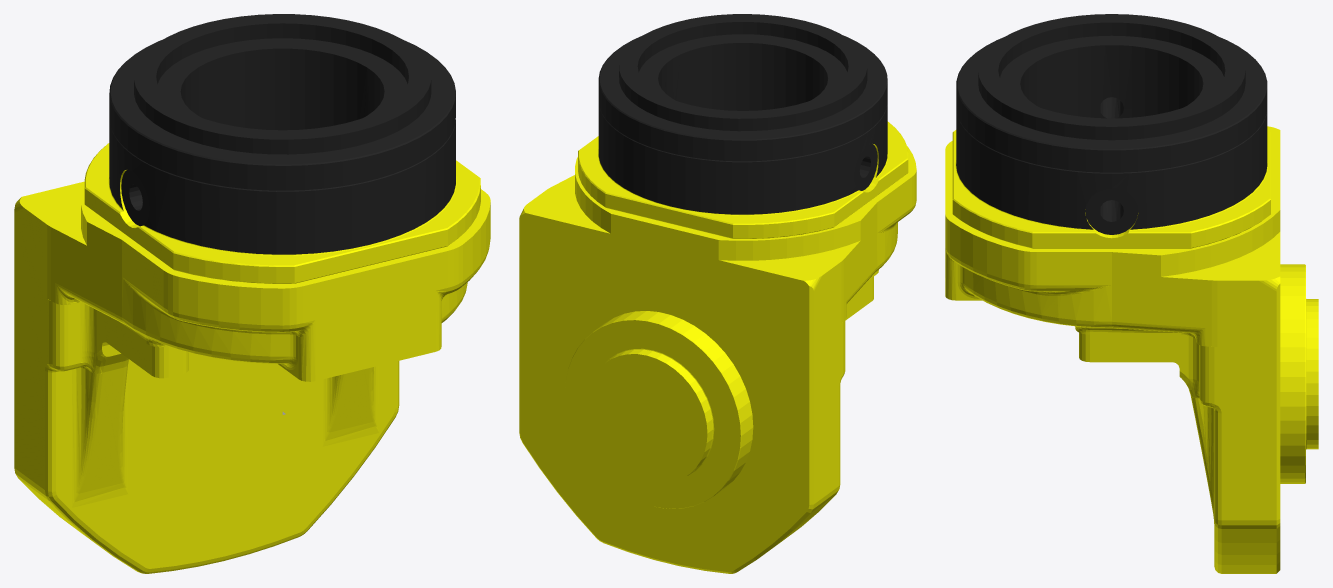
3 views of the same model, side by side, from view 1: azimuth 30°, elevation 25°; view 2: azimuth 150°, elevation 25°; view 3: azimuth 270°, elevation 25° (orthographic). The views are drawn at different scales.
Parts seen in each view (by area): view 1: node; view 2: node; view 3: node.
Boxes of the visible parts, x1,y1,x2,y2 form: node: [14, 14, 490, 573]; node: [519, 14, 916, 573]; node: [945, 14, 1318, 573].
Bounding box in the file's own units: 100 × 143 × 102.
